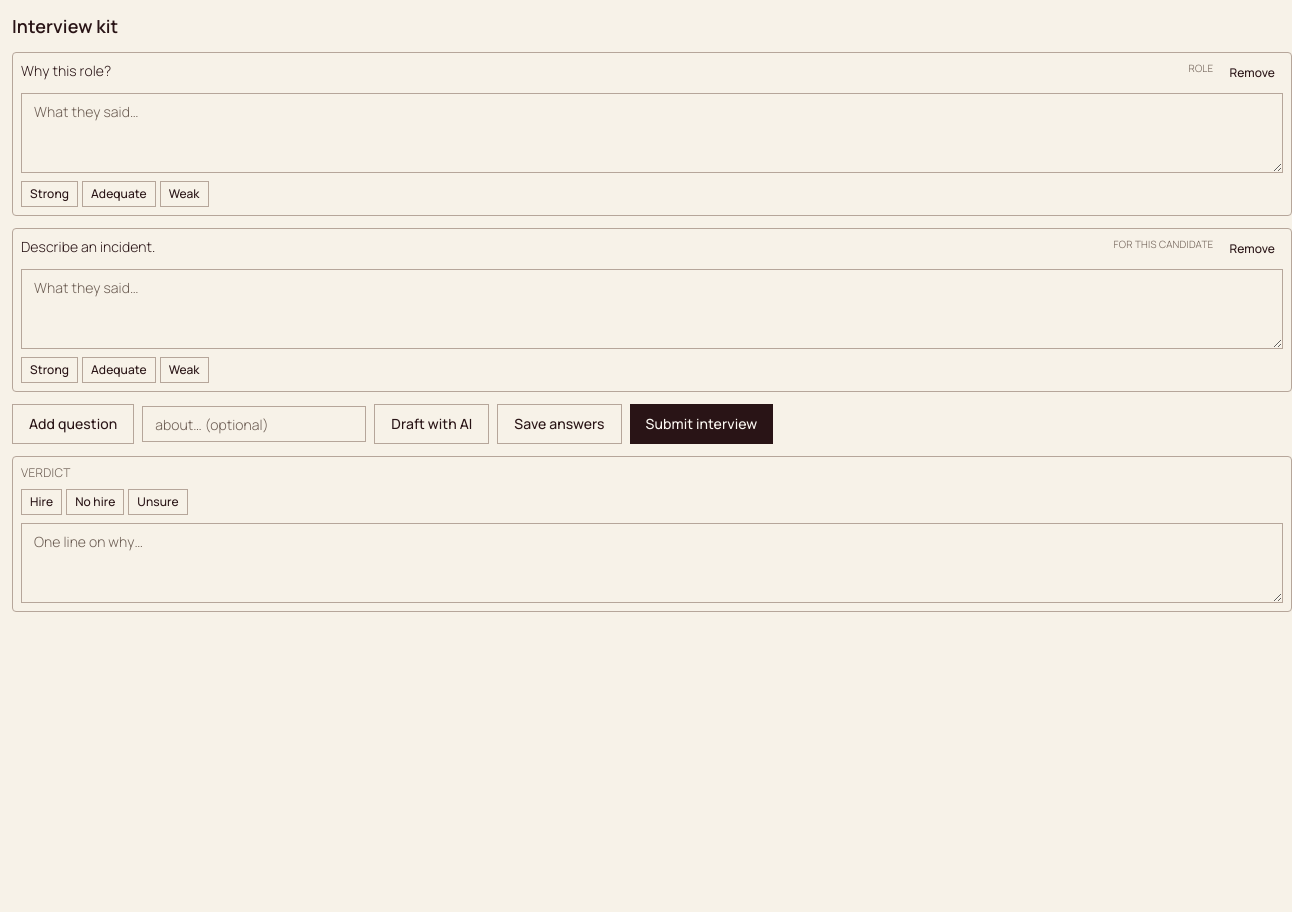
Test: InterviewKitSection › drafts a question with AI and appends it as an editable row
The image size is (1292, 912).
Expected: the text box showing "Why this role?" is shown, [21,61,1180,80]
In the field with placeholder "about… (optional)": (254, 424) [142,406,366,442], type "Terraform state locking"
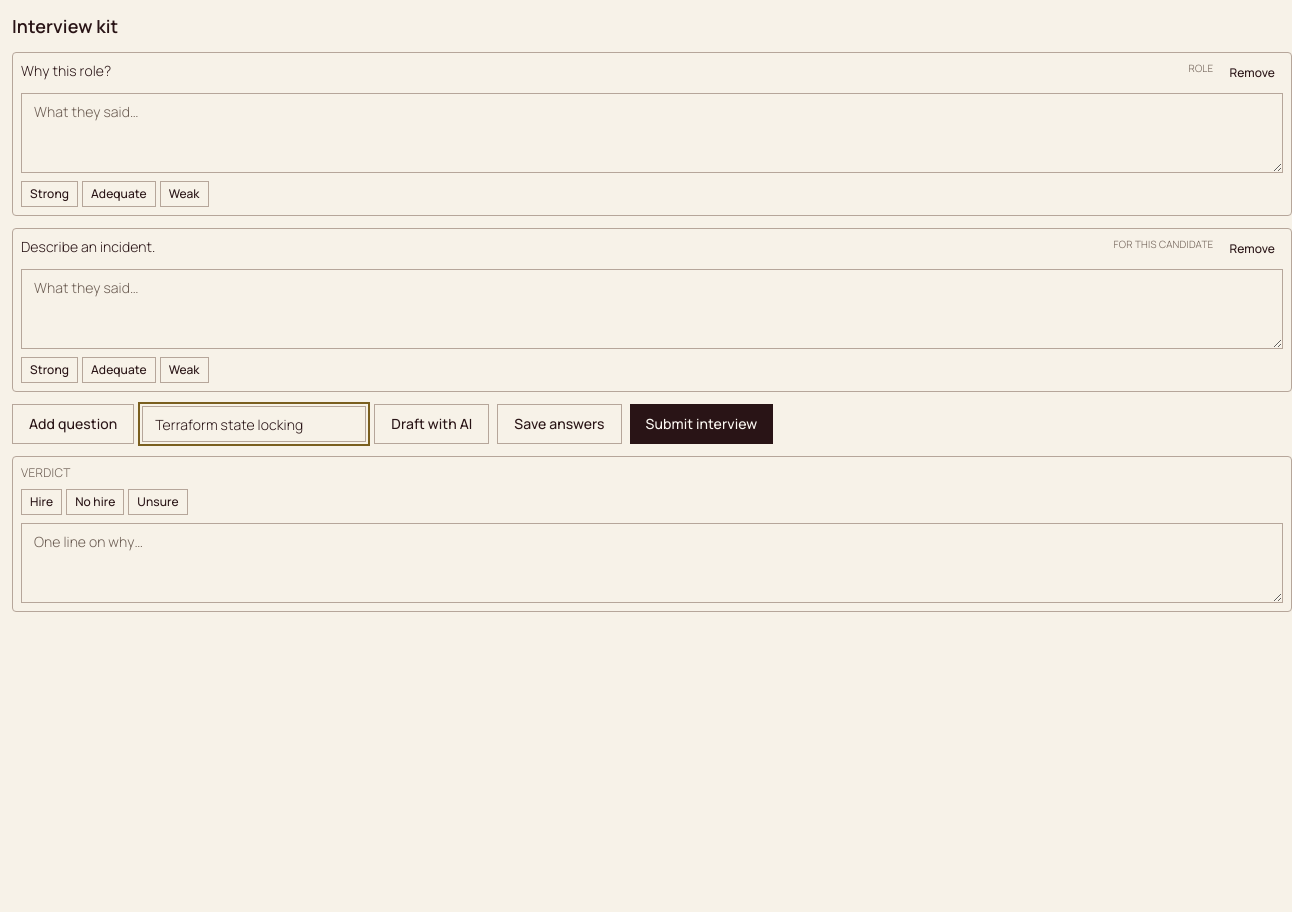
Click the button "Draft with AI": (432, 424) [374,404,489,444]
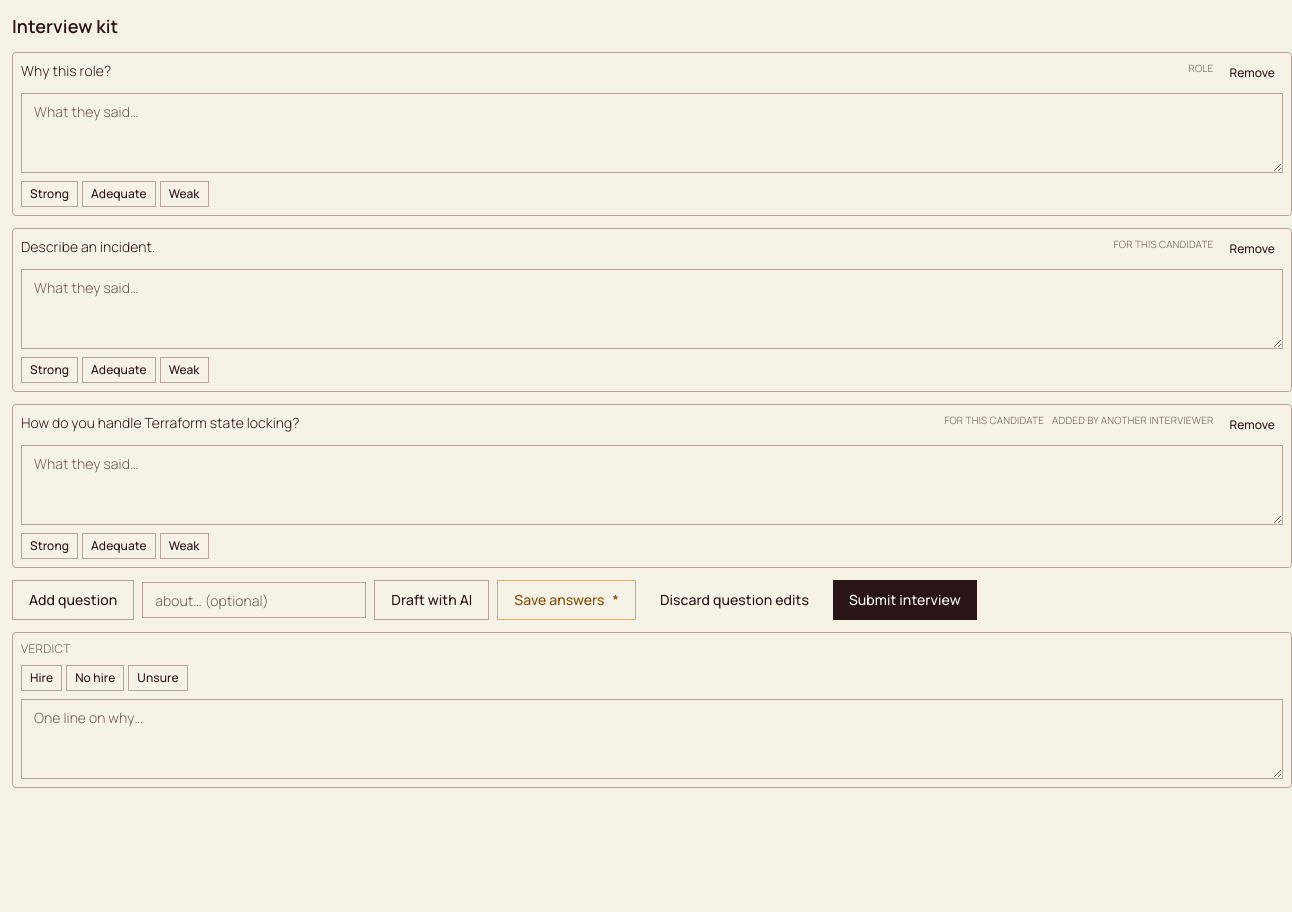
Expected: the text box showing "How do you handle Terraform state locking?" is shown, [21,413,936,432]
